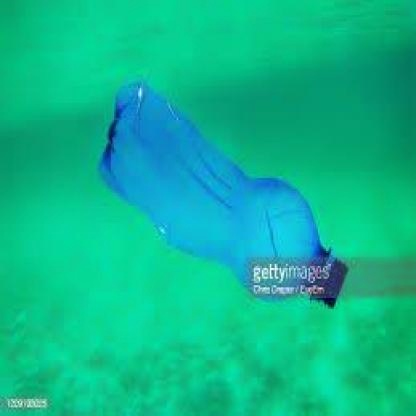pbottle: (95, 79, 361, 307)
